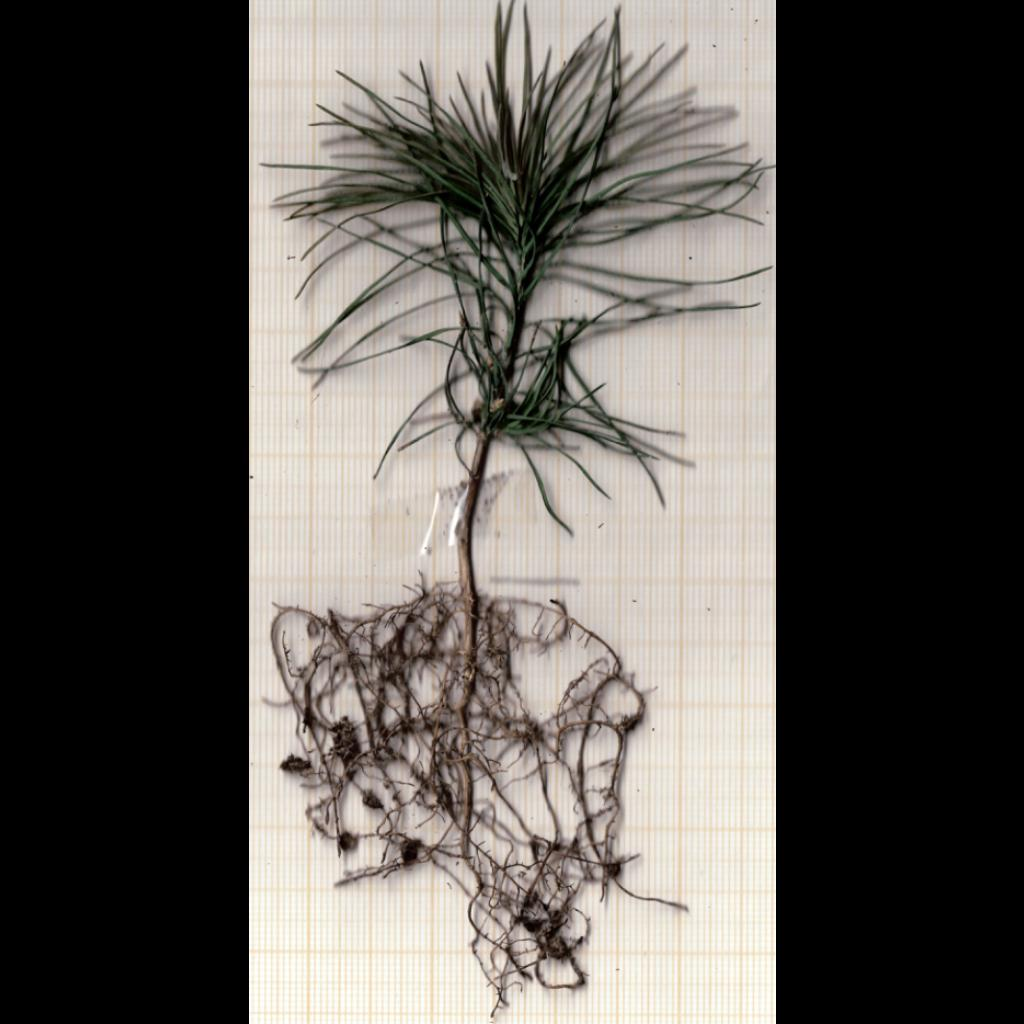flowerCedr: (265, 0, 772, 531)
rootCedr: (273, 588, 647, 1013)
stemCedr: (450, 437, 490, 679)
